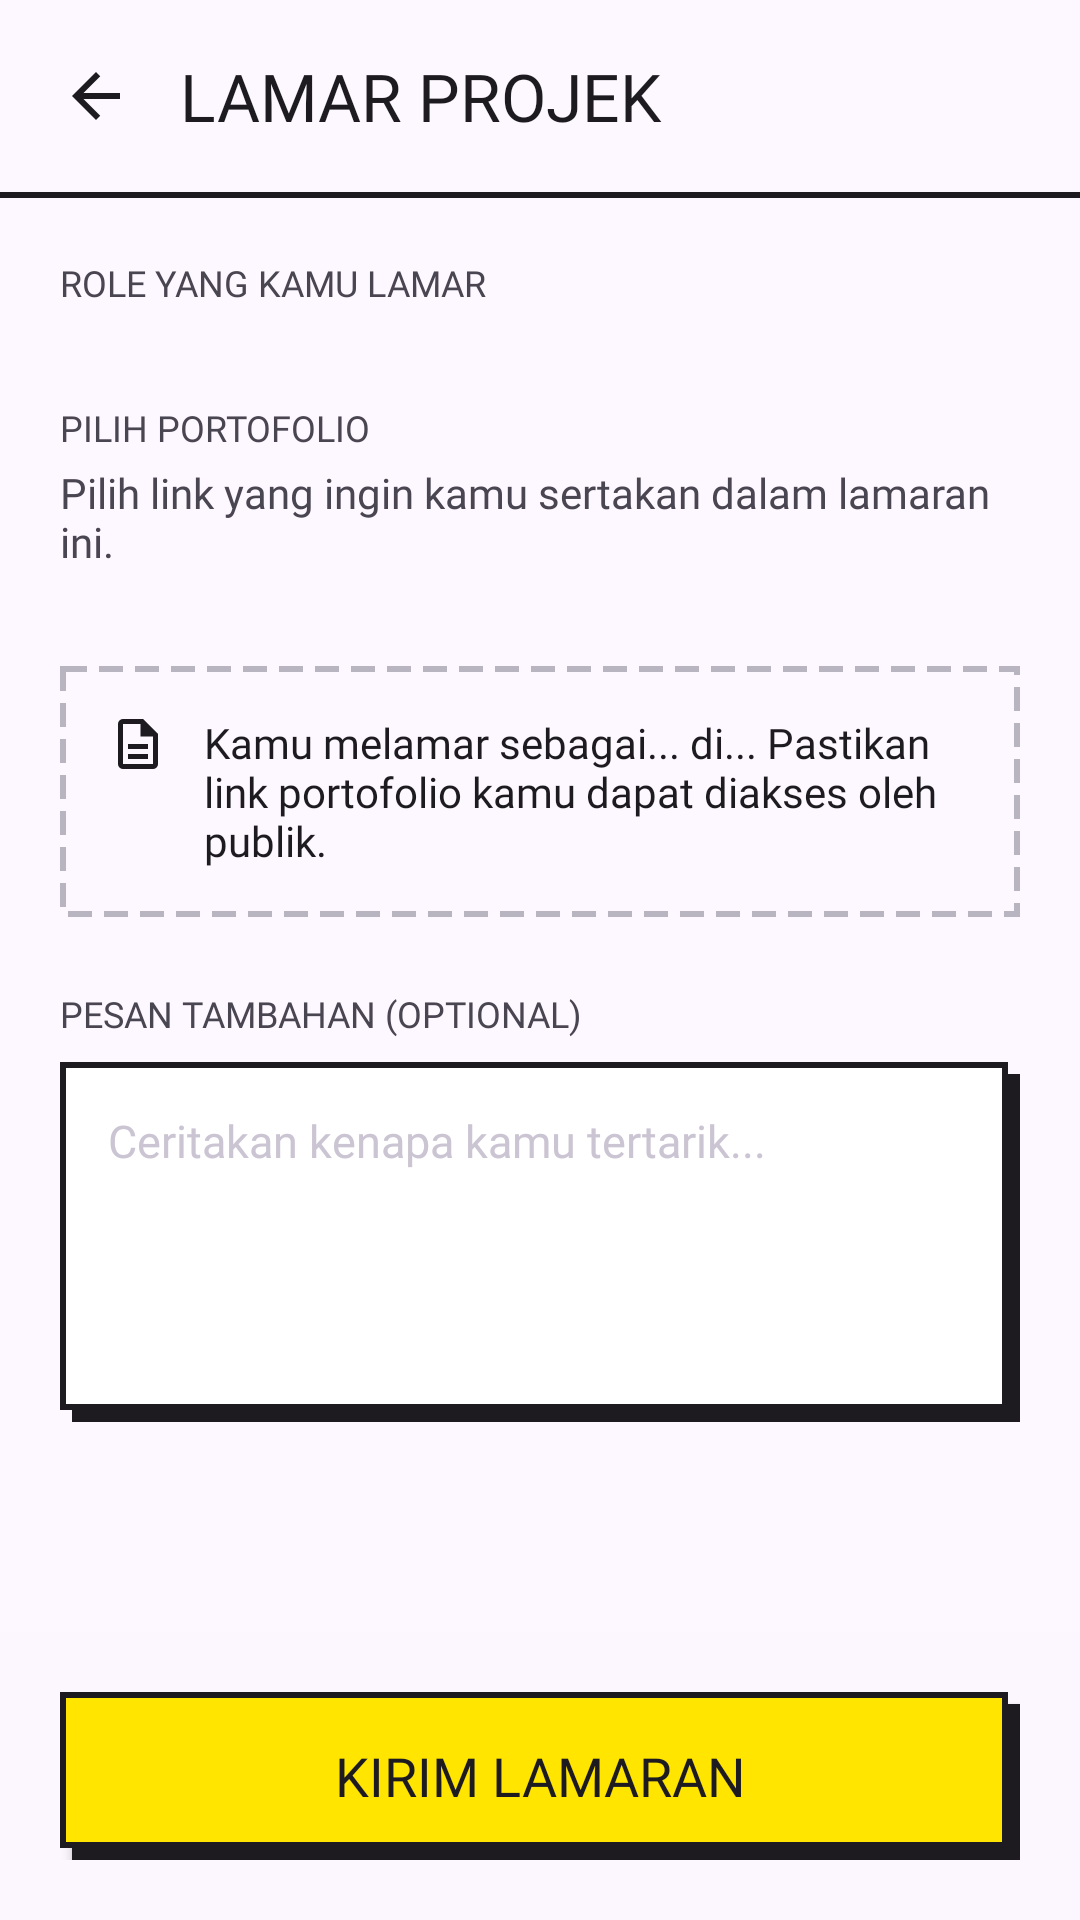

Icon bounding boxes for this 1080*1920 phone screenshot, format (x1, y1, x2, y2):
back: (72, 72, 120, 120)
description: (118, 719, 158, 769)
